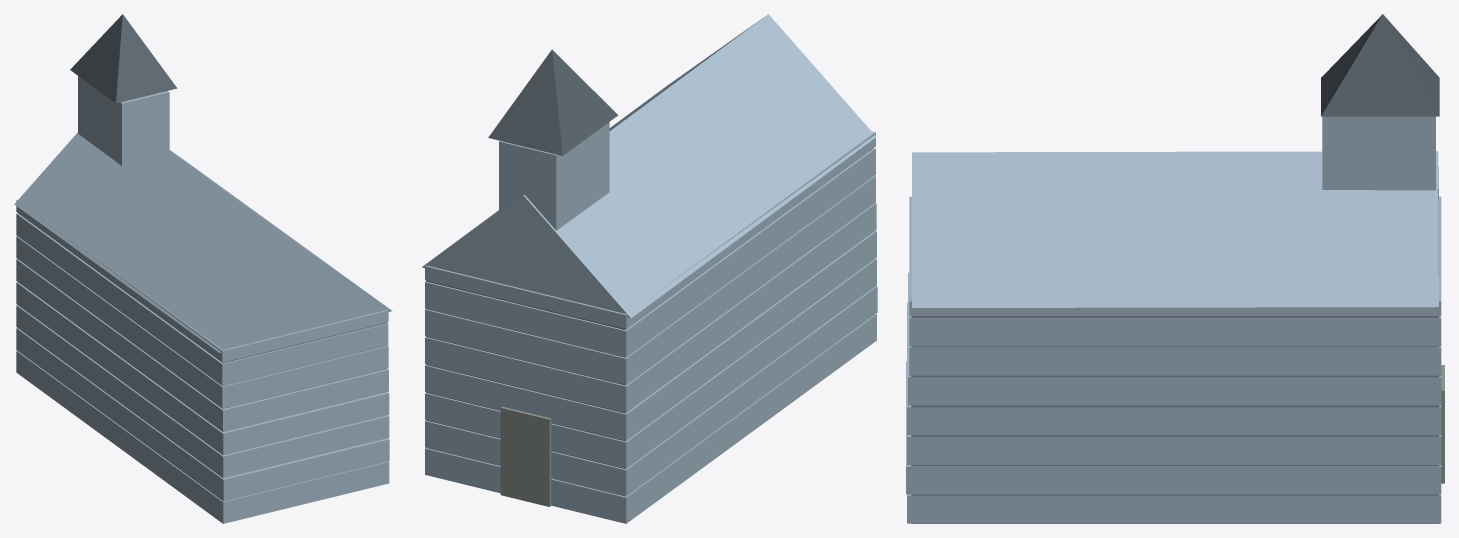
Rendered from church_color.fbx.
The picture shows the model from 3 angles, left to right: view 1: azimuth 30°, elevation 25°; view 2: azimuth 150°, elevation 25°; view 3: azimuth 270°, elevation 25°; orthographic projection. The views are drawn at different scales.
Parts seen in each view (by area): view 1: Cube.002, Cube.008, Cube.006, Cube.007, Cube.009, Cube.011, Cube.010, Cube.005, Cube.001, Cube.003, Cube.012, Cube; view 2: Cube.002, Cube.011, Cube.009, Cube.010, Cube.008, Cube.006, Cube.007, Cube.005, Cube.001, Cube.003, Cube.012, Cube.004 (+1 smaller); view 3: Cube.002, Cube.009, Cube.006, Cube.008, Cube.005, Cube.011, Cube.010, Cube.007, Cube, Cube.001, Cube.003, Cube.012.
Part boxes in pixels (x1,y1,x2,y2): Cube.002: (14,132,392,353); Cube.008: (16,282,389,455); Cube.006: (16,328,389,501); Cube.007: (16,305,389,478); Cube.009: (16,259,388,431); Cube.011: (16,213,388,385); Cube.010: (16,236,388,408); Cube.005: (16,350,389,523); Cube.001: (78,76,169,165); Cube.003: (70,14,177,103); Cube.012: (16,200,388,362); Cube: (19,214,387,431); Cube.002: (422,14,875,318); Cube.011: (425,148,875,357); Cube.009: (425,203,876,412); Cube.010: (425,176,875,384); Cube.008: (425,230,876,440); Cube.006: (425,286,877,496); Cube.007: (425,258,876,468); Cube.005: (425,314,876,523); Cube.001: (499,122,609,230); Cube.003: (488,49,618,155); Cube.012: (425,131,875,328); Cube.004: (500,406,552,506); Cube.002: (912,151,1438,307); Cube.009: (908,272,1441,405); Cube.006: (906,361,1441,494); Cube.008: (907,302,1441,435); Cube.005: (907,494,1441,523); Cube.011: (909,316,1441,346); Cube.010: (909,346,1441,375); Cube.007: (907,435,1441,464); Cube: (911,316,1439,523); Cube.001: (1322,116,1435,190); Cube.003: (1321,14,1439,116); Cube.012: (909,196,1441,315).
Size of the model in its own units: 458 by 890 by 948.
